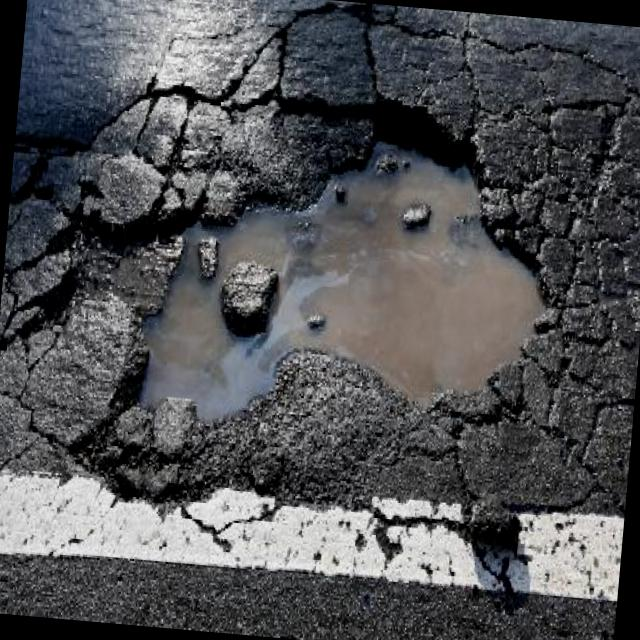Lubang: (78, 143, 563, 524)
